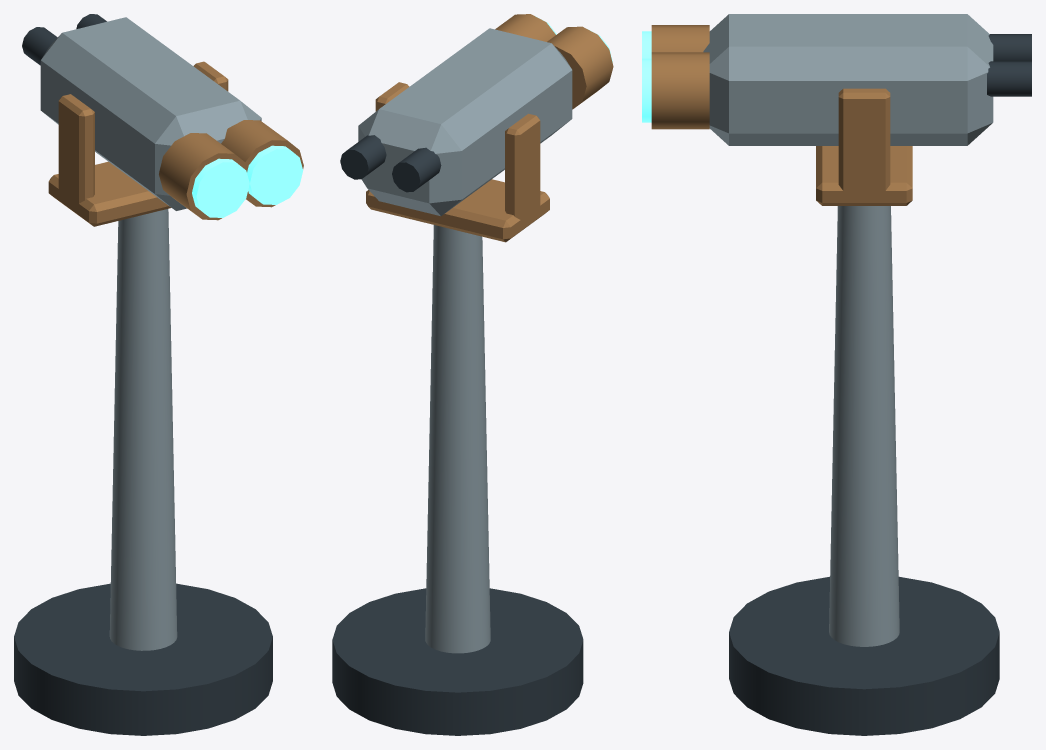
Rendered from telescope.lod0.glb.
The picture shows the model from 3 angles, left to right: view 1: azimuth 30°, elevation 25°; view 2: azimuth 150°, elevation 25°; view 3: azimuth 270°, elevation 25°; orthographic projection. The views are drawn at different scales.
Parts seen in each view (by area): view 1: structure, tube; view 2: structure, tube; view 3: structure, tube.
Boxes of the visible parts, left/top/right/bottom form: structure: left=14, top=61, right=272, bottom=735; tube: left=22, top=14, right=303, bottom=220; structure: left=332, top=82, right=583, bottom=735; tube: left=340, top=14, right=613, bottom=215; structure: left=729, top=88, right=999, bottom=735; tube: left=642, top=14, right=1031, bottom=145.
Bounding box in the file's own units: 0.84 × 2.22 × 1.21.
